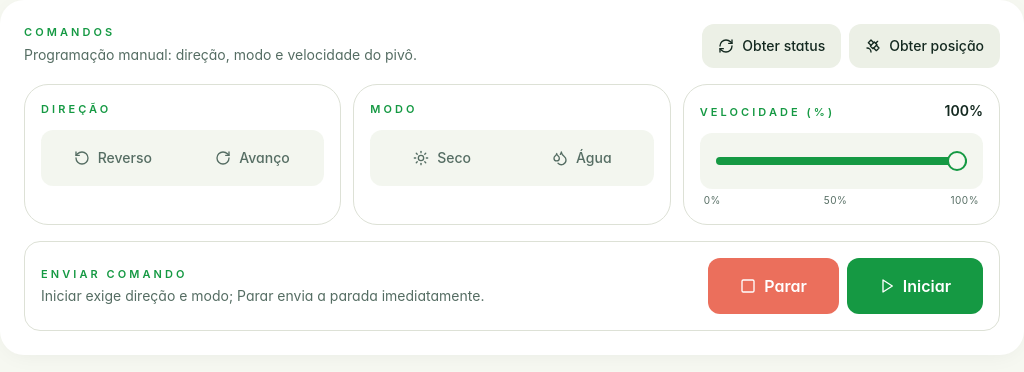
it: PivotCommandsCard › exige direção e modo para iniciar
Click the button "Iniciar". click: (915, 286)
box: [847,258,983,314]
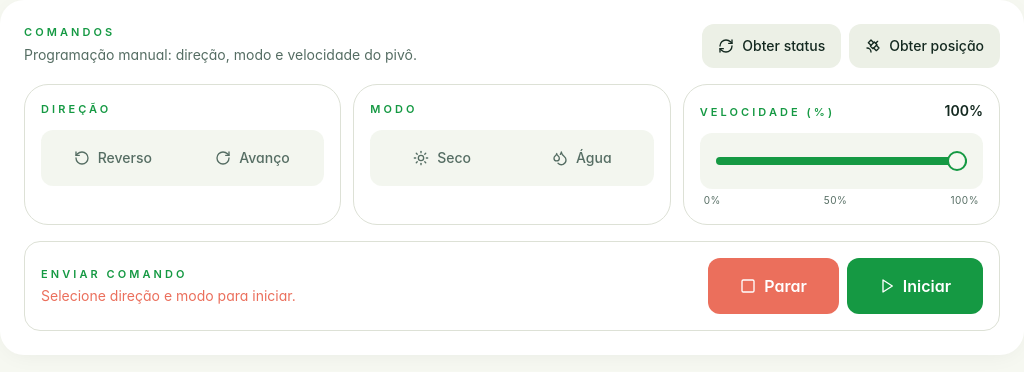
Now the message reads "Selecione direção e modo para iniciar.", box [41,287,296,304]
